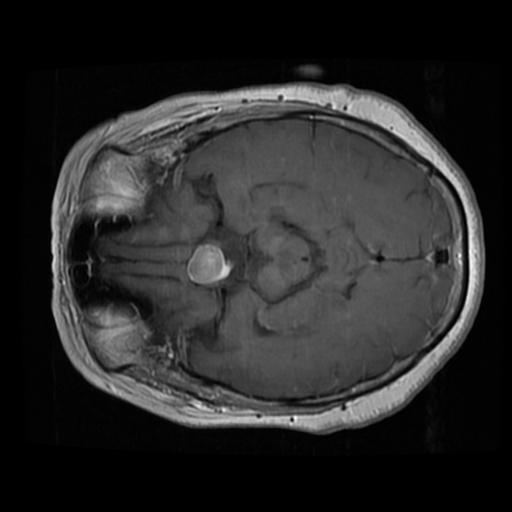pituitary tumour: (186, 243, 228, 284)
